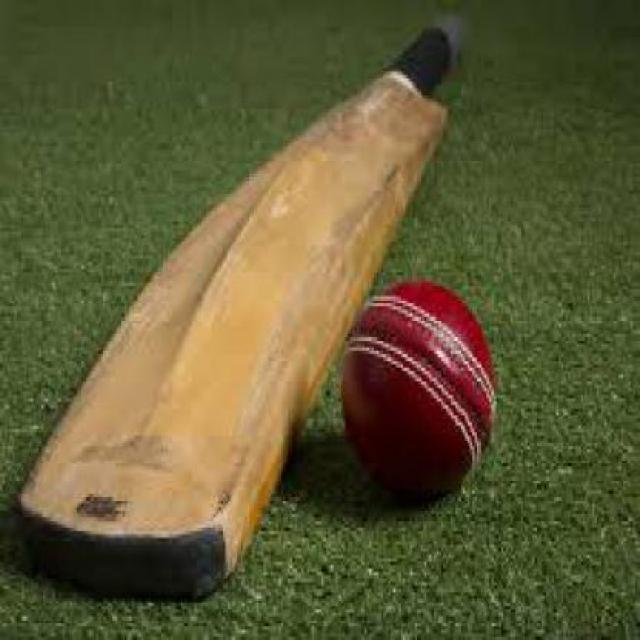ball: (304, 252, 540, 517)
